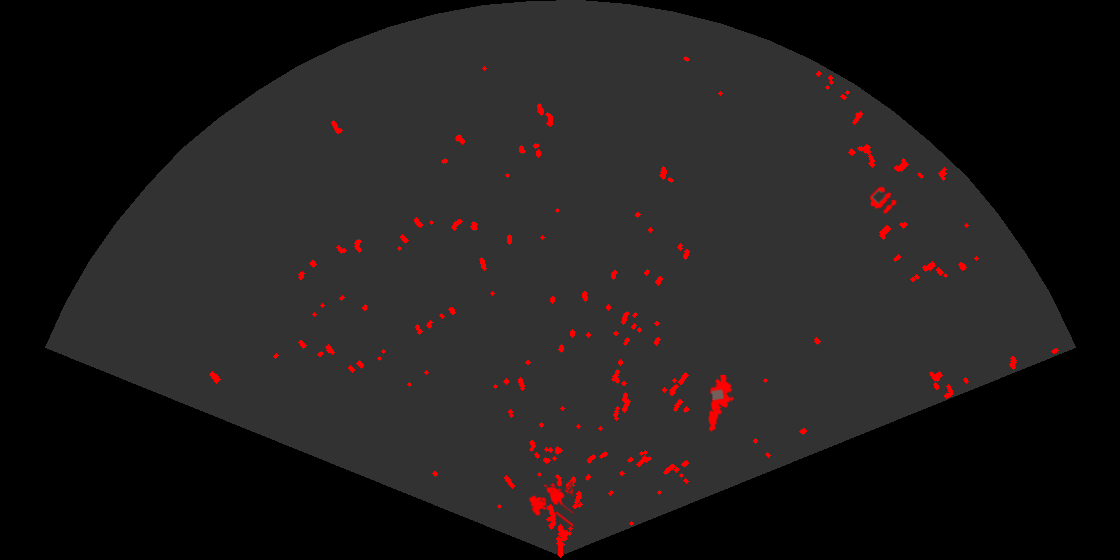ball: (868, 185, 898, 215)
cage: (527, 480, 573, 528)
frogman: (707, 375, 736, 433)
